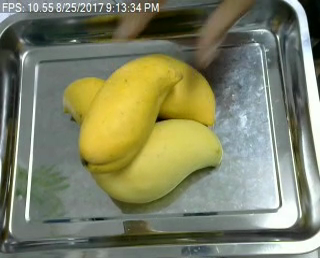Mango: (77, 55, 184, 170), (86, 116, 223, 204), (140, 52, 219, 126), (61, 75, 113, 123)
